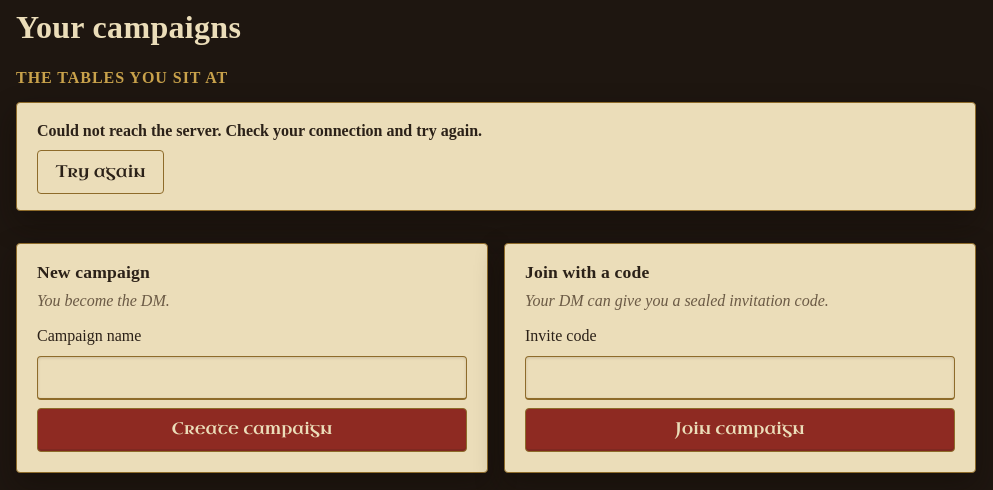
Scenario: campaign list › survives a dropped connection and recovers with Try again
Expected: the message shows "Could not reach the server", [37, 122, 482, 139]
Click the button "Try again" at x=101, y=172, box [37, 150, 164, 194]
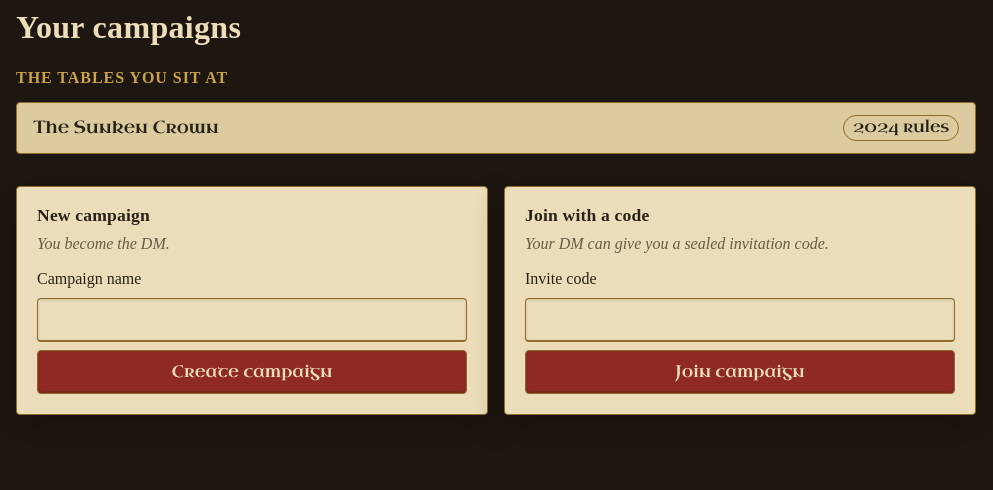
Now the link "The Sunken Crown 2024 rules" is shown, box [16, 102, 976, 154]
